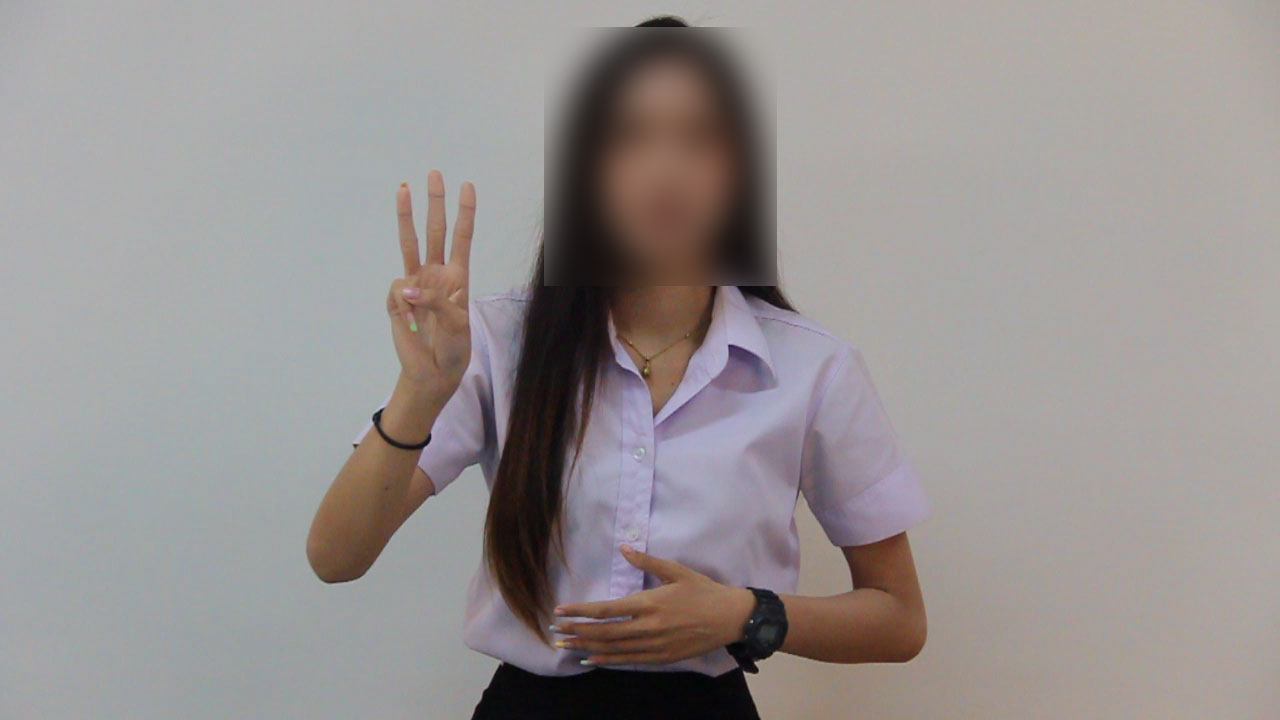wor: (370, 163, 489, 406)
